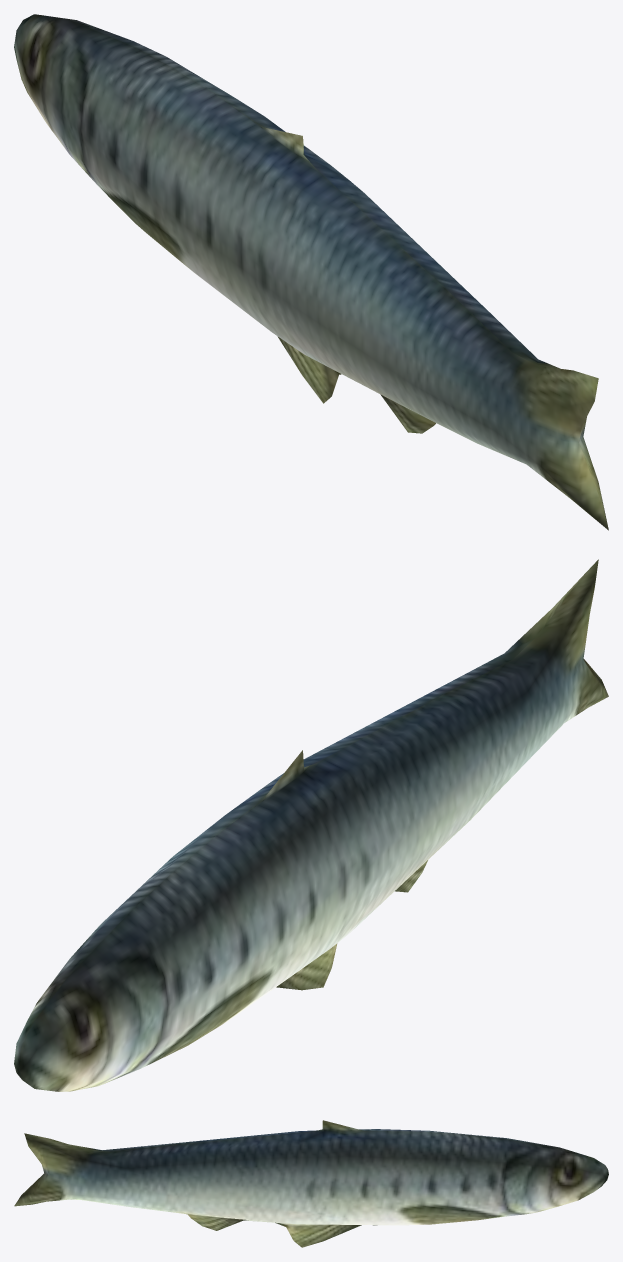
File: sardine.glb
3 views of the same model, one above another, from view 1: azimuth 30°, elevation 25°; view 2: azimuth 150°, elevation 25°; view 3: azimuth 270°, elevation 25° (orthographic). The views are drawn at different scales.
Visible parts, largest first — view 1: Sphere_fish_0; view 2: Sphere_fish_0; view 3: Sphere_fish_0.
Part boxes in pixels (x1=…): Sphere_fish_0: x1=14, y1=14, x2=608, y2=530; Sphere_fish_0: x1=14, y1=559, x2=608, y2=1091; Sphere_fish_0: x1=14, y1=1120, x2=608, y2=1247.
Size of the model in its own units: 0.0145 by 0.0333 by 0.1406.
1 material, 1 textured.
